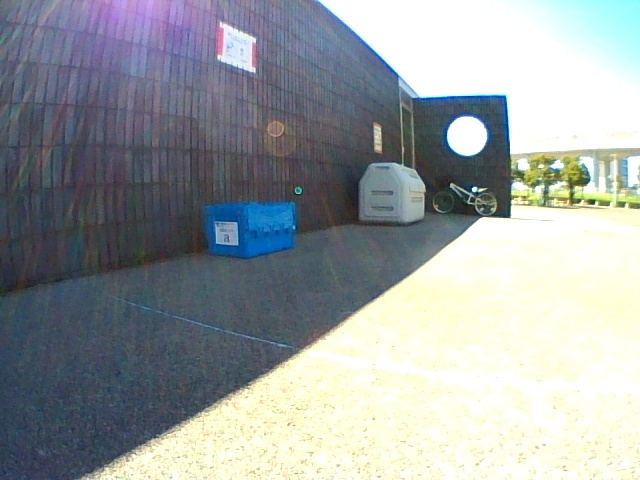blue_box: (204, 202, 296, 259)
tag_a: (216, 222, 237, 244)
